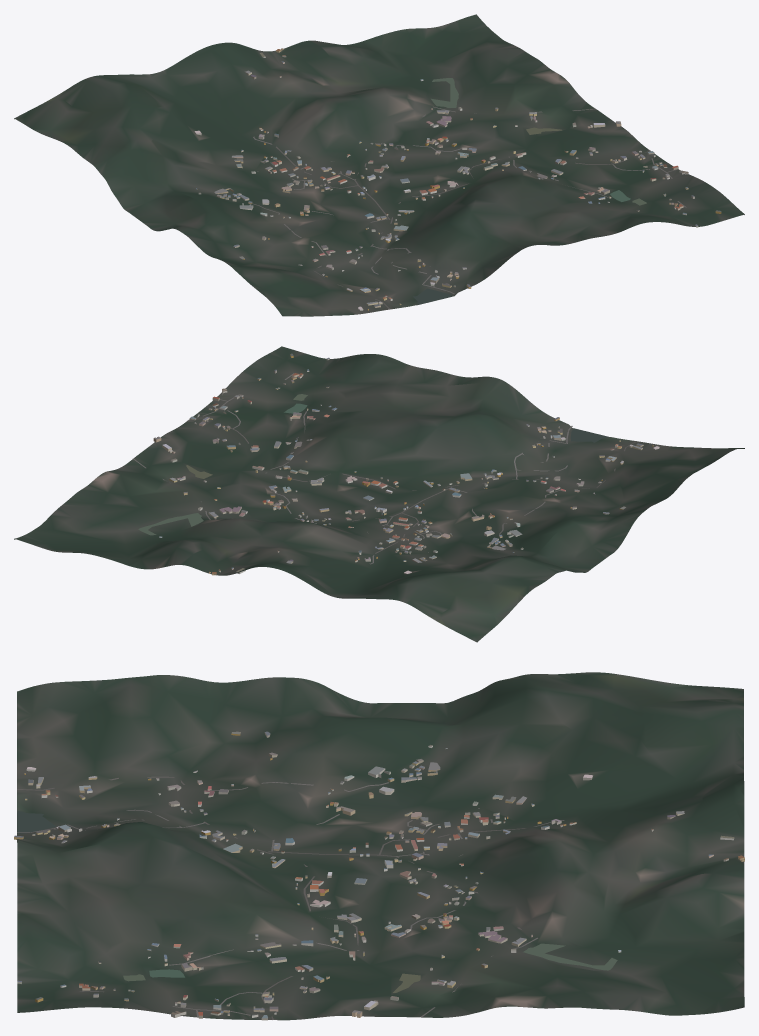
3 views of the same model, one above another, from view 1: azimuth 30°, elevation 25°; view 2: azimuth 150°, elevation 25°; view 3: azimuth 270°, elevation 25° (orthographic). The views are drawn at different scales.
Visible parts, largest first — view 1: ground, buildings, roads, water; view 2: ground, buildings, roads, water; view 3: ground, buildings, water, roads.
Part boxes in pixels (<box>): ground: <box>14,14,744,316</box>; buildings: <box>194,48,721,310</box>; roads: <box>253,106,686,309</box>; water: <box>413,78,646,304</box>; ground: <box>14,346,744,642</box>; buildings: <box>153,353,659,575</box>; roads: <box>133,373,636,564</box>; water: <box>138,394,608,535</box>; ground: <box>17,672,744,1020</box>; buildings: <box>14,731,744,1020</box>; water: <box>17,811,617,992</box>; roads: <box>17,776,564,1019</box>.
Bounding box in the file's own units: 1404 × 145 × 1409.
